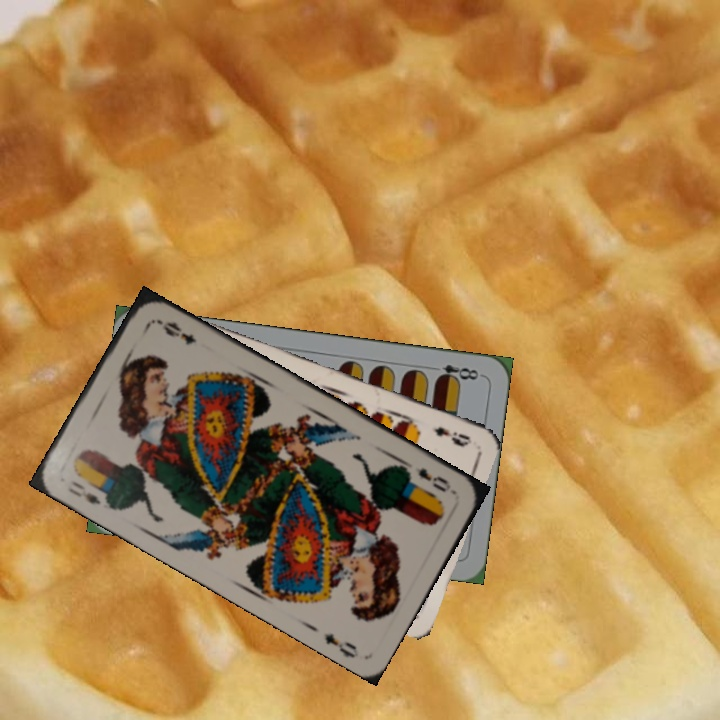E8: (426, 360, 484, 385)
E9: (430, 422, 475, 450)
EO: (401, 463, 457, 497), (64, 476, 103, 508)
